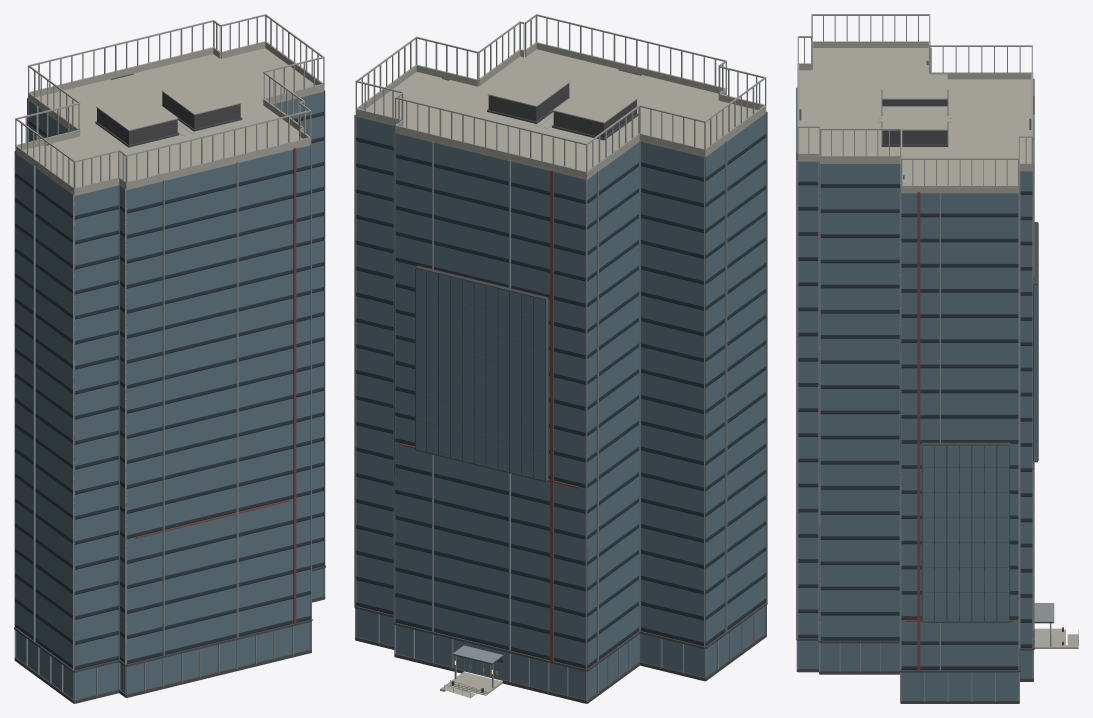
File: building-t1-lod2.glb
3 views of the same model, side by side, from view 1: azimuth 30°, elevation 25°; view 2: azimuth 150°, elevation 25°; view 3: azimuth 270°, elevation 25° (orthographic). The views are drawn at different scales.
Parts seen in each view (by area): view 1: building-t1_MATERIAL_BATCH; view 2: building-t1_MATERIAL_BATCH; view 3: building-t1_MATERIAL_BATCH.
Boxes of the visible parts, x1=… form: building-t1_MATERIAL_BATCH: x1=14, y1=14, x2=325, y2=703; building-t1_MATERIAL_BATCH: x1=354, y1=14, x2=767, y2=703; building-t1_MATERIAL_BATCH: x1=796, y1=14, x2=1078, y2=703.
Bounding box in the file's own units: 56.51 × 97.5 × 45.84.
